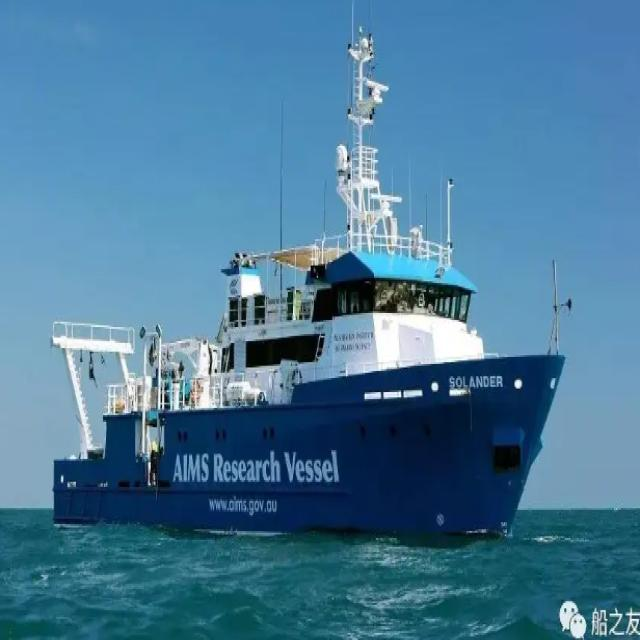fishing boat: (44, 63, 571, 562)
